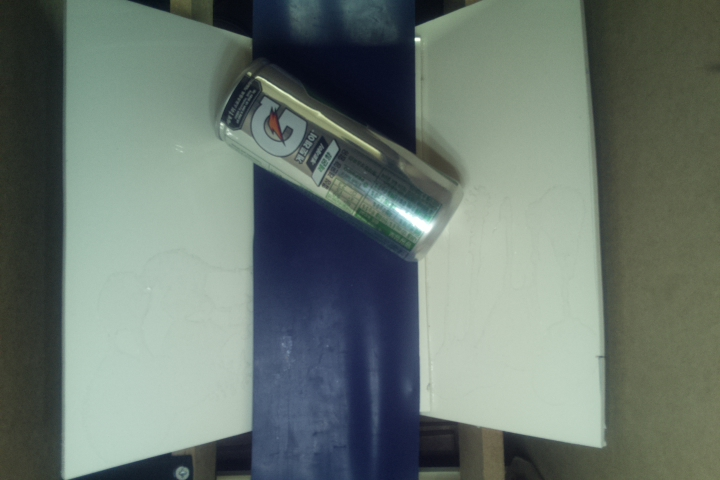can: (215, 57, 466, 268)
